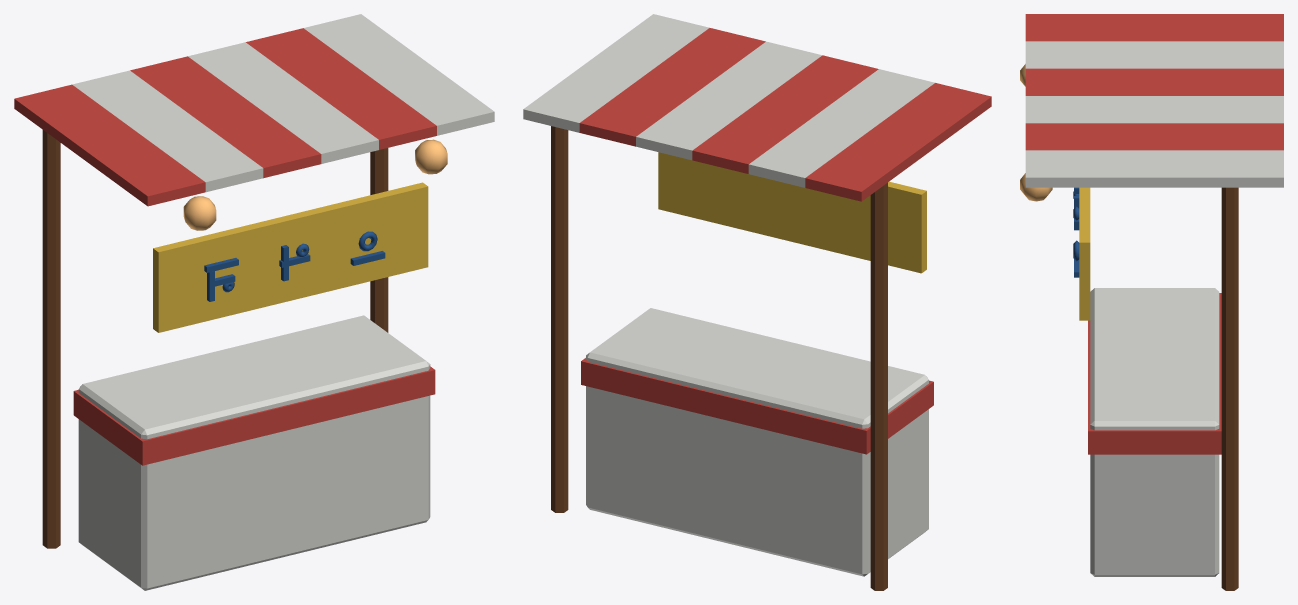
The model's file is decor_5.fbx.
3 views of the same model, side by side, from view 1: azimuth 30°, elevation 25°; view 2: azimuth 150°, elevation 25°; view 3: azimuth 270°, elevation 25° (orthographic). The views are drawn at different scales.
Visible parts, largest first — view 1: decor_5; view 2: decor_5; view 3: decor_5.
Boxes of the visible parts, left/top/right/bottom form: decor_5: left=14, top=14, right=494, bottom=590; decor_5: left=523, top=14, right=991, bottom=590; decor_5: left=1020, top=14, right=1283, bottom=590.
Size of the model in its own units: 1.8 by 2.12 by 1.23.
